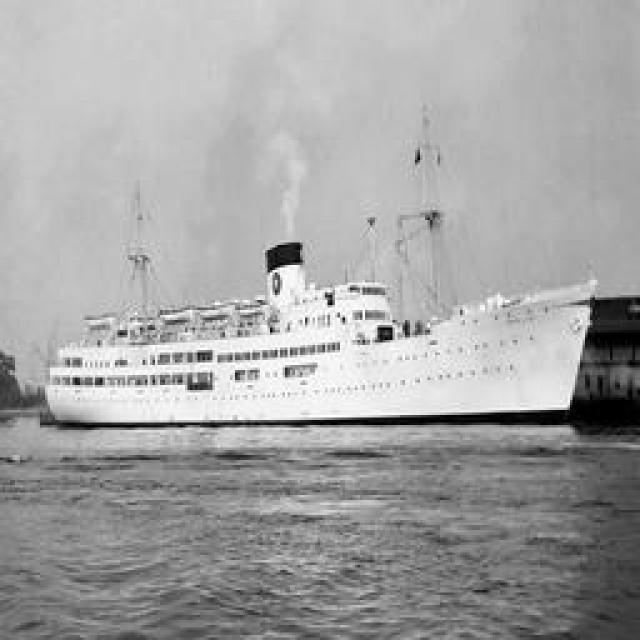Ship: (31, 226, 599, 434)
